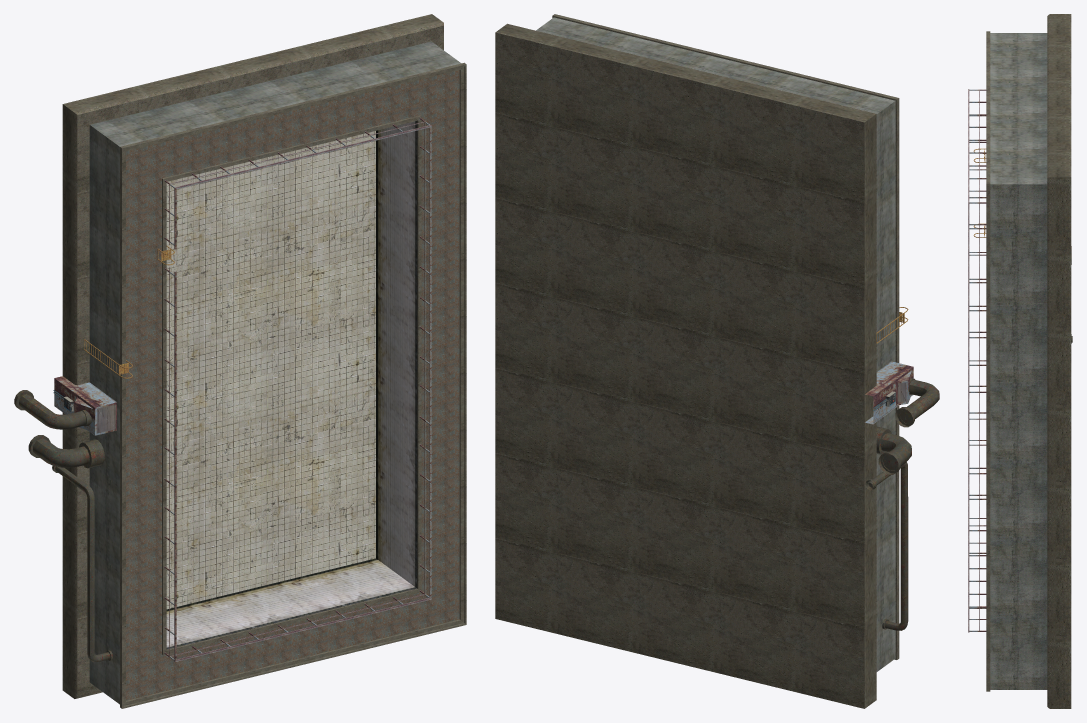
File: wasserbecken.obj
3 renders of one model, left to right at view 1: azimuth 30°, elevation 25°; view 2: azimuth 150°, elevation 25°; view 3: azimuth 270°, elevation 25°, orthographic. The views are drawn at different scales.
Parts seen in each view (by area): view 1: MDL_Box011; view 2: MDL_Box011; view 3: MDL_Box011.
Boxes of the visible parts, left/top/right/bottom form: MDL_Box011: left=14, top=14, right=466, bottom=708; MDL_Box011: left=495, top=14, right=939, bottom=708; MDL_Box011: left=968, top=14, right=1072, bottom=708.
Bounding box in the file's own units: 23.11 × 31.01 × 5.51.
